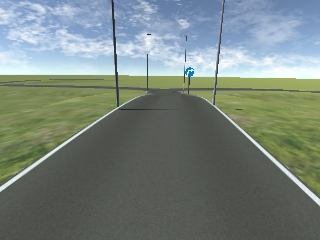right: (184, 68, 195, 77)
